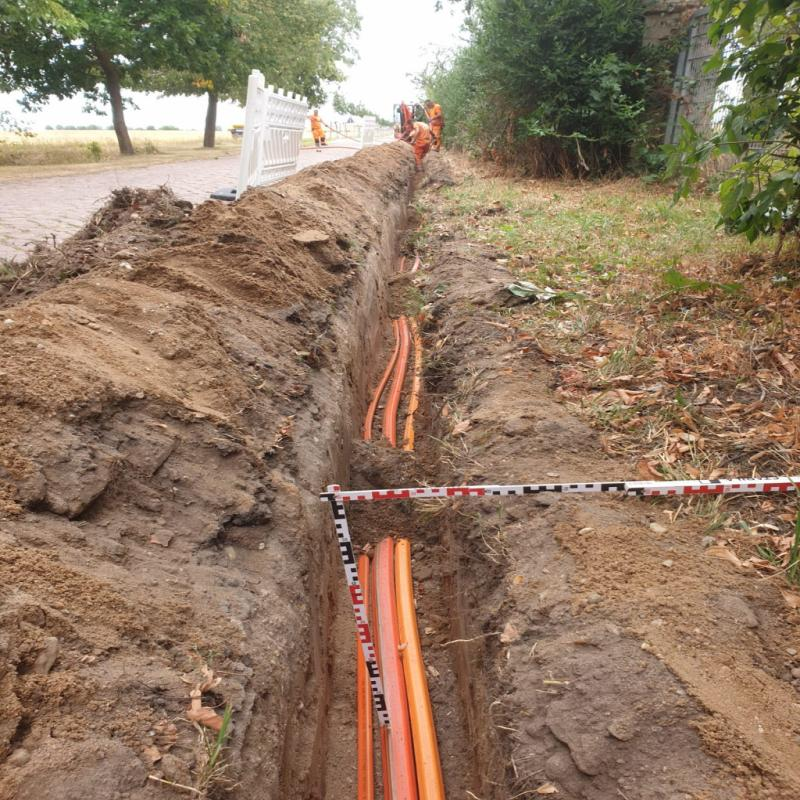Orang-Speednetrohrchen: (356, 535, 439, 796), (356, 315, 427, 444)
